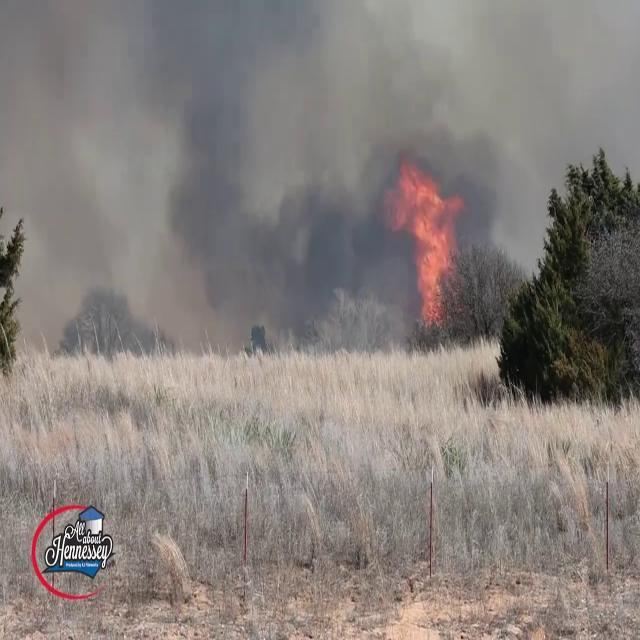Fire: (389, 152, 466, 332)
Smoke: (5, 1, 544, 363)
